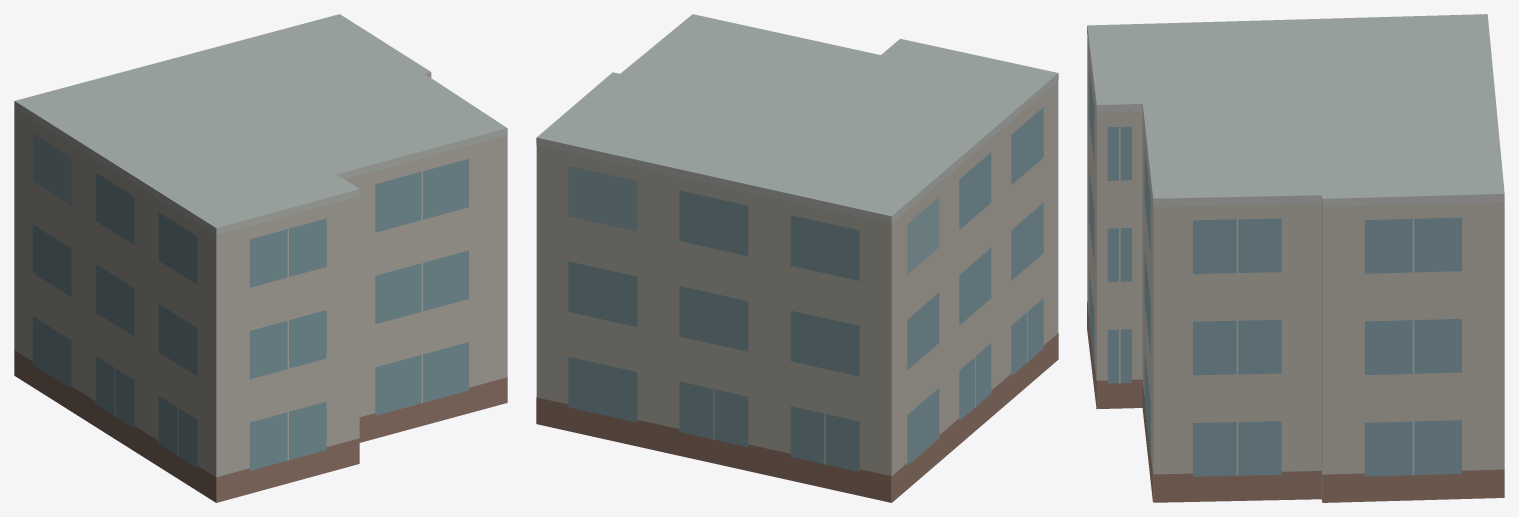
File: survey-upis-32925126.glb
3 renders of one model, left to right at view 1: azimuth 30°, elevation 25°; view 2: azimuth 150°, elevation 25°; view 3: azimuth 270°, elevation 25°, orthographic. The views are drawn at different scales.
Parts seen in each view (by area): view 1: survey-upis-32925126.tmp; view 2: survey-upis-32925126.tmp; view 3: survey-upis-32925126.tmp.
Part boxes in pixels (x1,y1,x2,y2): survey-upis-32925126.tmp: (14,14,507,502); survey-upis-32925126.tmp: (536,14,1058,502); survey-upis-32925126.tmp: (1087,14,1504,502).
Bounding box in the file's own units: 11.94 × 9.15 × 11.4.
